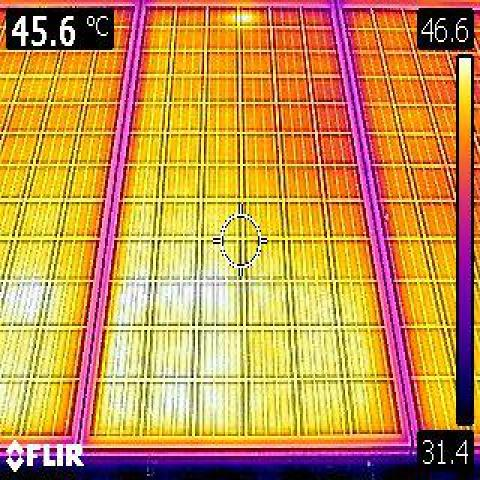fault: (106, 278, 253, 426), (5, 285, 43, 324), (232, 10, 250, 24)
